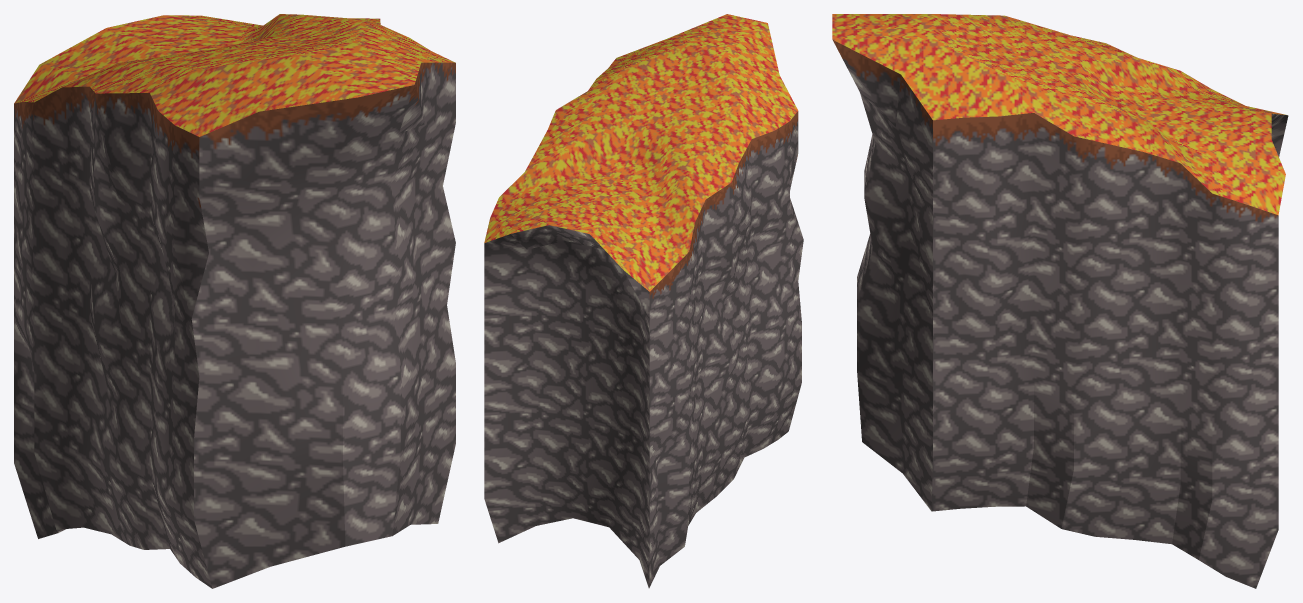
The model's file is Cliff.fbx.
The picture shows the model from 3 angles, left to right: view 1: azimuth 30°, elevation 25°; view 2: azimuth 150°, elevation 25°; view 3: azimuth 270°, elevation 25°; orthographic projection. The views are drawn at different scales.
Parts seen in each view (by area): view 1: pCube1; view 2: pCube1; view 3: pCube1.
Boxes of the visible parts, box(x1,y1,x2,y2) form: pCube1: box(14, 14, 455, 588); pCube1: box(484, 14, 803, 588); pCube1: box(832, 14, 1288, 588).
Size of the model in its own units: 17.33 by 36.81 by 28.92.
1 material, 1 textured.
